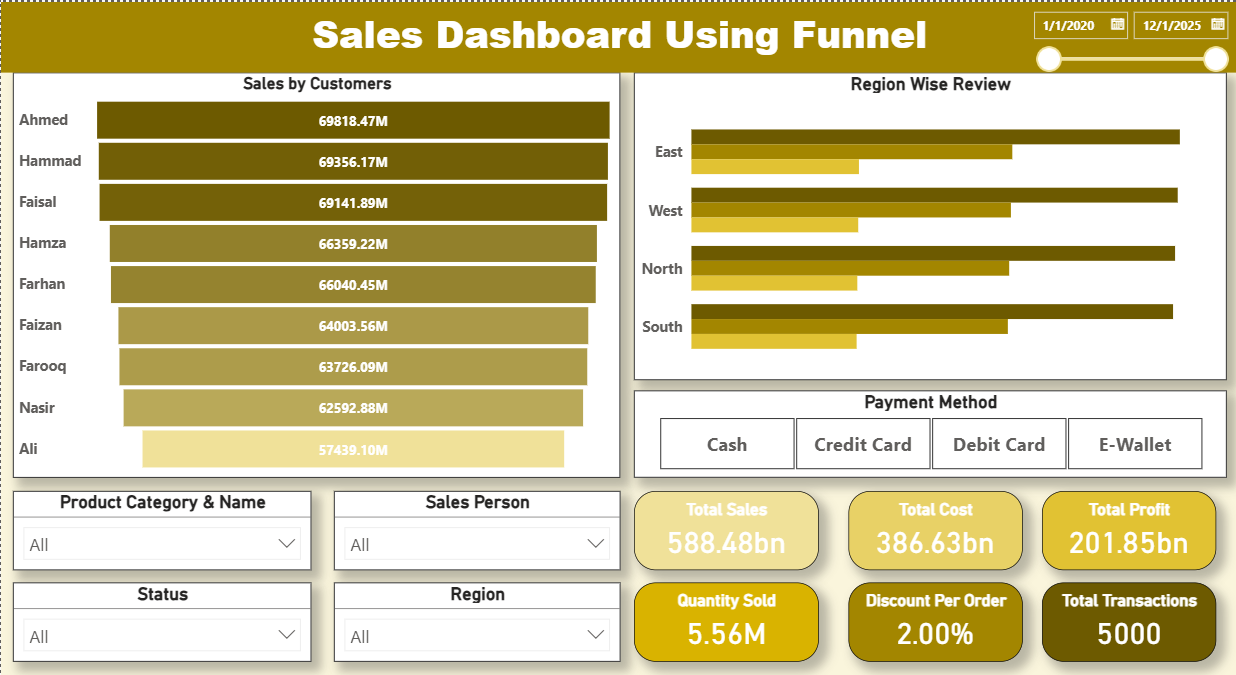

Layout of this report page (visuals, bound fields, positions):
{"tool":"powerbi","page":{"name":"Page 1","canvas":[1250,680],"ordinal":0},"visuals":[{"type":"funnel","title":"Sales by Customers","fields":{"Y":["Data.Total Sales"],"Category":["Data.Customer Name"]},"box":[12.1,71.2,613.6,409.1],"z":0},{"type":"clusteredBarChart","title":"Region Wise Review","fields":{"Y":["Data.Total Sales","Data.Cost","Data.Profit"],"Category":["Data.Region"]},"box":[639.4,71.2,598.5,310.6],"z":1000},{"type":"slicer","title":"Product Category & Name","fields":{"Values":["Data.Product Category","Data.Product Name"]},"box":[12.1,493.9,301.5,80.3],"z":2000},{"type":"slicer","title":"Sales Person","fields":{"Values":["Data.Sales Person"]},"box":[336.4,493.9,289.4,80.3],"z":3000},{"type":"slicer","title":"Status","fields":{"Values":["Data.Status"]},"box":[12.1,586.4,301.5,80.3],"z":4000},{"type":"slicer","title":"Region","fields":{"Values":["Data.Region"]},"box":[336.4,586.4,289.4,80.3],"z":5000},{"type":"slicer","title":"Payment Method","fields":{"Values":["Data.Payment Method"]},"box":[639.4,392.4,598.5,87.9],"z":6000},{"type":"card","title":"Total Sales","fields":{"Values":["Data.Total Sales"]},"box":[639.4,493.9,186.4,80.3],"z":7000},{"type":"card","title":"Total Cost","fields":{"Values":["Data.Cost"]},"box":[856.1,493.9,175.8,80.3],"z":8000},{"type":"card","title":"Total Profit","fields":{"Values":["Data.Profit"]},"box":[1051.5,493.9,175.8,80.3],"z":9000},{"type":"card","title":"Quantity Sold","fields":{"Values":["Data.Quantity Sold"]},"box":[639.4,586.4,186.4,80.3],"z":10000},{"type":"card","title":"Discount Per Order","fields":{"Values":["Data.Discount %"]},"box":[856.1,586.4,175.8,80.3],"z":11000},{"type":"card","title":"Total Transactions","fields":{"Values":["Data.T-ID"]},"box":[1051.5,586.4,175.8,80.3],"z":12000},{"type":"textbox","box":[0,0,1250,71.2],"z":13000},{"type":"slicer","fields":{"Values":["Data.Date"]},"box":[1030.3,0,218.2,71.2],"z":14000}]}

Visuals, with their boxes in screenshot pixels (x1, y1, x2, y2), scaled from the page's 1250x680 canvas onto the 1236x675 screenshot:
"Sales by Customers" funnel: (left=12, top=71, right=619, bottom=477)
"Region Wise Review" clusteredBarChart: (left=632, top=71, right=1224, bottom=379)
"Product Category & Name" slicer: (left=12, top=490, right=310, bottom=570)
"Sales Person" slicer: (left=333, top=490, right=619, bottom=570)
"Status" slicer: (left=12, top=582, right=310, bottom=662)
"Region" slicer: (left=333, top=582, right=619, bottom=662)
"Payment Method" slicer: (left=632, top=390, right=1224, bottom=477)
"Total Sales" card: (left=632, top=490, right=817, bottom=570)
"Total Cost" card: (left=847, top=490, right=1020, bottom=570)
"Total Profit" card: (left=1040, top=490, right=1214, bottom=570)
"Quantity Sold" card: (left=632, top=582, right=817, bottom=662)
"Discount Per Order" card: (left=847, top=582, right=1020, bottom=662)
"Total Transactions" card: (left=1040, top=582, right=1214, bottom=662)
textbox: (left=0, top=0, right=1235, bottom=71)
slicer - Data.Date: (left=1019, top=0, right=1235, bottom=71)
